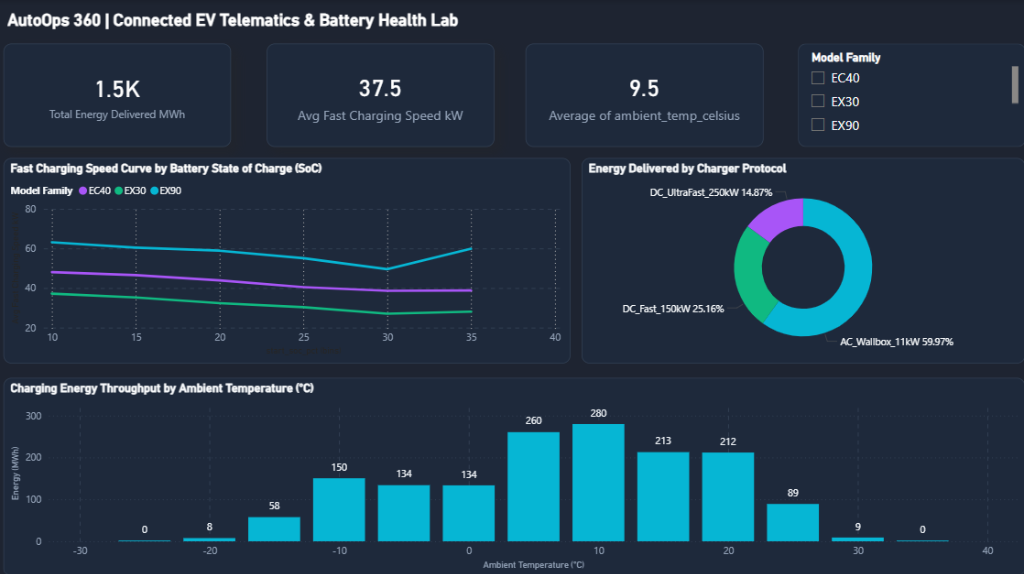

The dashboard page shown, as its layout file describes it:
{"tool":"powerbi","page":{"name":"Page 3","canvas":[1280,720],"ordinal":2},"visuals":[{"type":"card","fields":{"Values":["dim_dates.Total Energy Delivered MWh"]},"box":[10.1,54.1,280.3,127],"z":0},{"type":"card","fields":{"Values":["dim_dates.Avg Fast Charging Speed kW"]},"box":[334.4,54.1,280.3,127],"z":1000},{"type":"card","fields":{"Values":["Avg(fct_charging_telematics.ambient_temp_celsius)"]},"box":[652.4,54.1,292.9,127],"z":2000},{"type":"lineChart","title":"Fast Charging Speed Curve by Battery State of Charge (SoC)","fields":{"Category":["fct_charging_telematics.start_soc_pct (bins)"],"Y":["dim_dates.Avg Fast Charging Speed kW"],"Series":["dim_vehicles.model_family"]},"box":[10.1,194.8,697.6,252.7],"z":3000},{"type":"donutChart","title":"Energy Delivered by Charger Protocol","fields":{"Category":["fct_charging_telematics.charger_protocol"],"Y":["dim_dates.Total Energy Delivered MWh"]},"box":[721.5,194.8,545.5,252.7],"z":4000},{"type":"clusteredColumnChart","title":"Charging Energy Throughput by Ambient Temperature (°C)","fields":{"Y":["dim_dates.Total Energy Delivered MWh"],"Category":["fct_charging_telematics.ambient_temp_celsius (bins)"]},"box":[10.1,465.1,1257,245.1],"z":5000},{"type":"slicer","fields":{"Values":["dim_vehicles.model_family"]},"box":[986.7,54.1,280.3,127],"z":6000},{"type":"textbox","title":"AutoOps 360 | Connected EV Telematics & Battery Health Lab","box":[10.1,12.6,631,28.9],"z":7000}]}

Visuals, with their boxes in screenshot pixels (x1, y1, x2, y2), scaled from the page's 1280x720 canvas onto the 1024x574 screenshot:
card - dim_dates.Total Energy Delivered MWh: region(8, 43, 232, 144)
card - dim_dates.Avg Fast Charging Speed kW: region(268, 43, 492, 144)
card - Avg(fct_charging_telematics.ambient_temp_celsius): region(522, 43, 756, 144)
"Fast Charging Speed Curve by Battery State of Charge (SoC)" lineChart: region(8, 155, 566, 357)
"Energy Delivered by Charger Protocol" donutChart: region(577, 155, 1014, 357)
"Charging Energy Throughput by Ambient Temperature (°C)" clusteredColumnChart: region(8, 371, 1014, 566)
slicer - dim_vehicles.model_family: region(789, 43, 1014, 144)
"AutoOps 360 | Connected EV Telematics & Battery Health Lab" textbox: region(8, 10, 513, 33)
